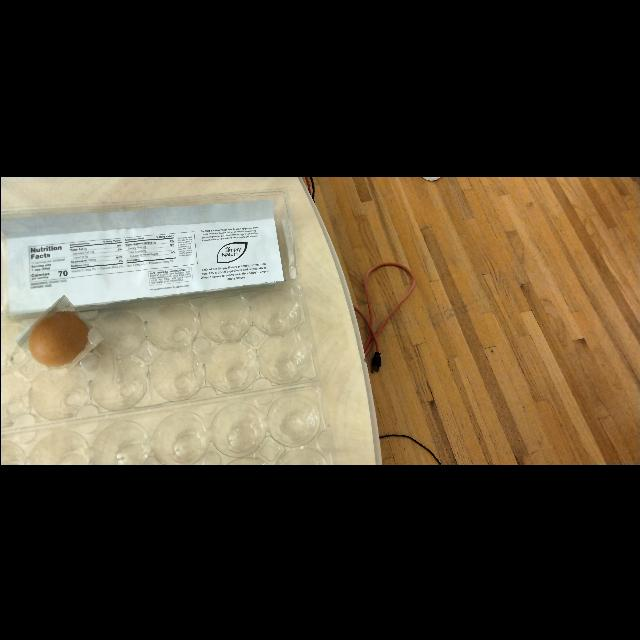Egg: (19, 300, 97, 376)
